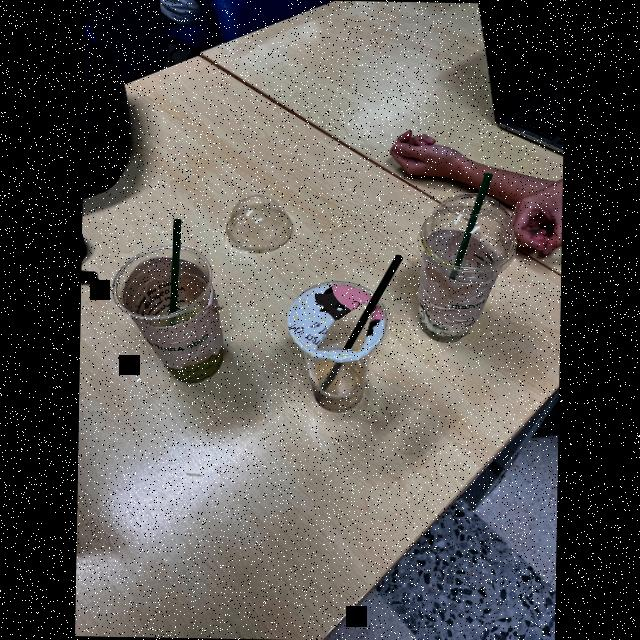plastic_cup: (111, 236, 231, 388), (282, 278, 393, 420), (405, 208, 513, 346)
plastic_cup_lid: (421, 189, 518, 276), (219, 188, 300, 260)
straw: (312, 254, 404, 403), (447, 170, 494, 283), (169, 218, 181, 314)
